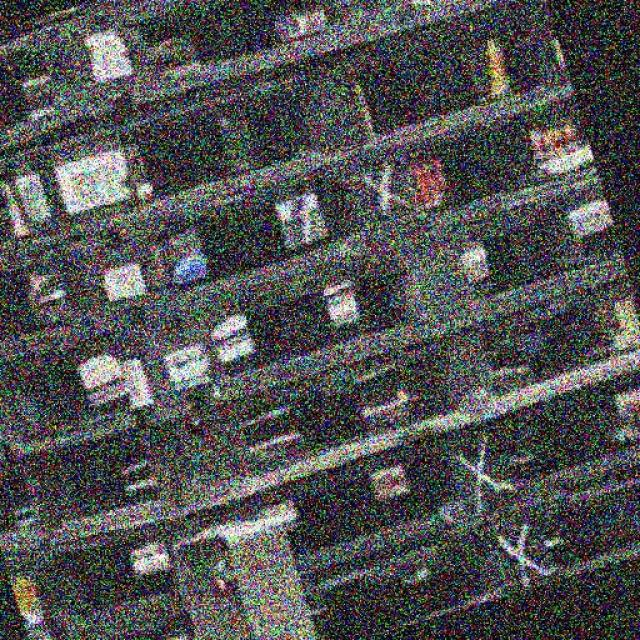igps: (0, 239, 639, 568), (0, 158, 640, 467), (0, 339, 639, 640), (0, 73, 620, 379), (0, 0, 583, 285), (0, 0, 639, 164)
